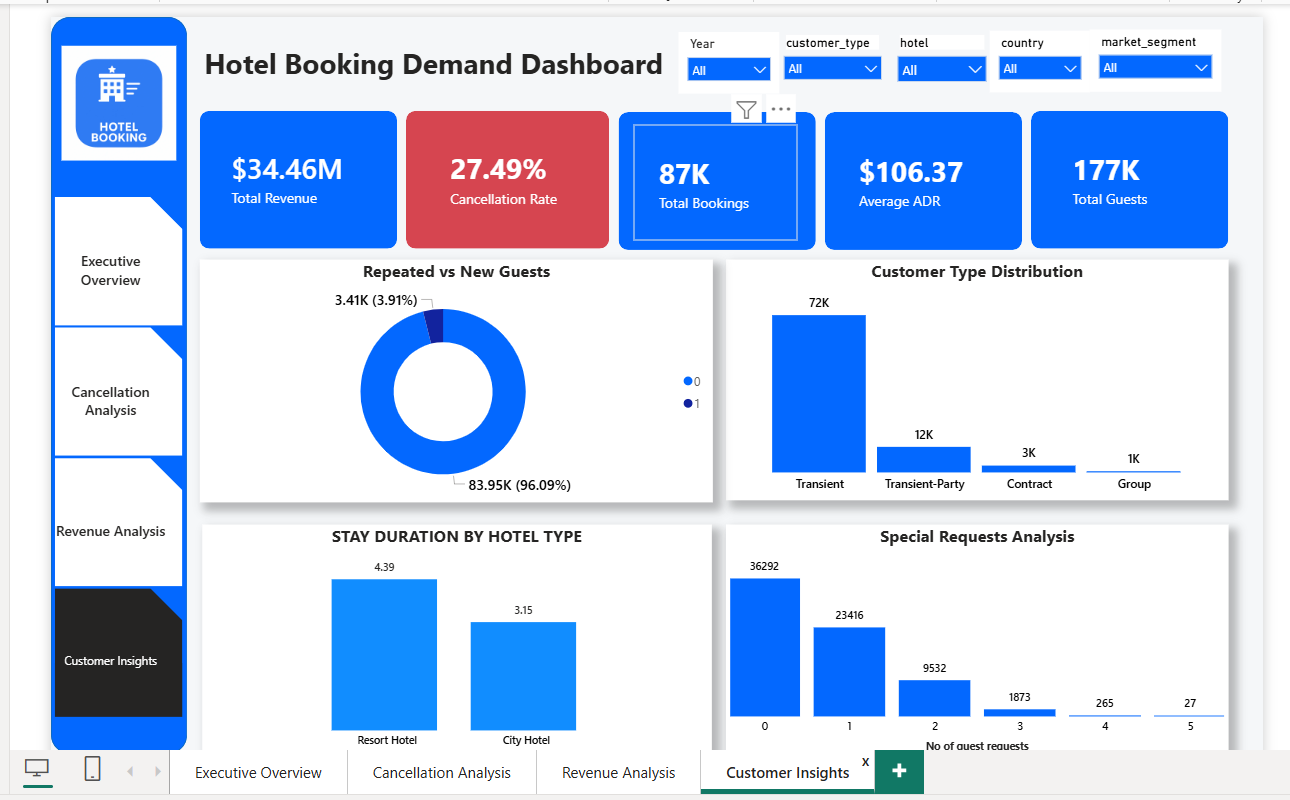

What the dashboard file says about the page in this screenshot:
{"tool":"powerbi","page":{"name":"Customer Insights","canvas":[1385,853],"ordinal":3},"visuals":[{"type":"columnChart","title":"Customer Type Distribution","fields":{"Category":["hotel_booking_no_duplicates.customer_type"],"Y":["Count(hotel_booking_no_duplicates.booking_id)"]},"box":[771.1,277.8,574.4,275.6],"z":0},{"type":"shape","box":[0,0,155.6,842.2],"z":1000},{"type":"shape","box":[170,106.7,225.6,157.8],"z":2000},{"type":"clusteredColumnChart","title":"STAY DURATION BY HOTEL TYPE","fields":{"Category":["hotel_booking_no_duplicates.hotel"],"Y":["Avg(hotel_booking_no_duplicates.total_nights)"]},"box":[172.2,580,582.2,265.6],"z":3000},{"type":"donutChart","title":"Repeated vs New Guests","fields":{"Y":["CountNonNull(hotel_booking_no_duplicates.booking_id)"],"Category":["hotel_booking_no_duplicates.is_repeated_guest"]},"box":[170,277.8,586.7,277.8],"z":4000},{"type":"clusteredColumnChart","title":"Special Requests Analysis","fields":{"Y":["CountNonNull(hotel_booking_no_duplicates.booking_id)"],"Category":["hotel_booking_no_duplicates.total_of_special_requests"]},"box":[771.1,580,574.4,265.6],"z":5000},{"type":"textbox","box":[170,25.6,541.1,72.2],"z":6000},{"type":"shape","box":[405.8,106.7,232.2,157.8],"z":7000},{"type":"shape","box":[648.3,108.9,225.6,157.8],"z":8000},{"type":"shape","box":[884.2,108.9,225.6,157.8],"z":9000},{"type":"shape","box":[1120,106.7,225.6,157.8],"z":10000},{"type":"cardVisual","fields":{"Data":["hotel_booking_no_duplicates.Average ADR"]},"box":[894.4,118.9,196.7,137.8],"z":11000},{"type":"image","box":[0,32.2,155.6,131.1],"z":12000},{"type":"cardVisual","fields":{"Data":["hotel_booking_no_duplicates.Total Bookings"]},"box":[665.6,122.2,186.7,133.3],"z":13000},{"type":"cardVisual","fields":{"Data":["hotel_booking_no_duplicates.Cancellation Rate"]},"box":[426.7,115.6,193.3,137.8],"z":14000},{"type":"cardVisual","fields":{"Data":["hotel_booking_no_duplicates.Total Guests"]},"box":[1138.9,125.6,187.8,118.9],"z":15000},{"type":"slicer","fields":{"Values":["hotel_booking_no_duplicates.hotel"]},"box":[957.8,15.6,122.2,70],"z":16000},{"type":"slicer","fields":{"Values":["hotel_booking_no_duplicates.customer_type"]},"box":[827.8,15.6,132.2,70],"z":17000},{"type":"slicer","fields":{"Values":["hotel_booking_no_duplicates.arrival_date.Variation.Date Hierarchy.Year"]},"box":[717.8,16.7,115.6,70],"z":18000},{"type":"slicer","fields":{"Values":["hotel_booking_no_duplicates.country"]},"box":[1072.2,15.6,114.4,70],"z":19000},{"type":"slicer","fields":{"Values":["hotel_booking_no_duplicates.market_segment"]},"box":[1186.7,14.4,150,71.1],"z":20000},{"type":"cardVisual","fields":{"Data":["hotel_booking_no_duplicates.Total Revenue"]},"box":[176.7,113.3,210,141.1],"z":21000},{"type":"pageNavigator","box":[4.4,205.6,146.7,597.8],"z":22000}]}

Visuals, with their boxes on the page's 1385x853 design canvas (x1, y1, x2, y2). These are canvas units, not pixel positions in the 1290x800 screenshot, which may show the page scaled, cropped or inside an application window:
"Customer Type Distribution" columnChart: pyautogui.locateOnScreen(771, 278, 1346, 553)
shape: pyautogui.locateOnScreen(0, 0, 156, 842)
shape: pyautogui.locateOnScreen(170, 107, 396, 264)
"STAY DURATION BY HOTEL TYPE" clusteredColumnChart: pyautogui.locateOnScreen(172, 580, 754, 846)
"Repeated vs New Guests" donutChart: pyautogui.locateOnScreen(170, 278, 757, 556)
"Special Requests Analysis" clusteredColumnChart: pyautogui.locateOnScreen(771, 580, 1346, 846)
textbox: pyautogui.locateOnScreen(170, 26, 711, 98)
shape: pyautogui.locateOnScreen(406, 107, 638, 264)
shape: pyautogui.locateOnScreen(648, 109, 874, 267)
shape: pyautogui.locateOnScreen(884, 109, 1110, 267)
shape: pyautogui.locateOnScreen(1120, 107, 1346, 264)
cardVisual - hotel_booking_no_duplicates.Average ADR: pyautogui.locateOnScreen(894, 119, 1091, 257)
image: pyautogui.locateOnScreen(0, 32, 156, 163)
cardVisual - hotel_booking_no_duplicates.Total Bookings: pyautogui.locateOnScreen(666, 122, 852, 256)
cardVisual - hotel_booking_no_duplicates.Cancellation Rate: pyautogui.locateOnScreen(427, 116, 620, 253)
cardVisual - hotel_booking_no_duplicates.Total Guests: pyautogui.locateOnScreen(1139, 126, 1327, 244)
slicer - hotel_booking_no_duplicates.hotel: pyautogui.locateOnScreen(958, 16, 1080, 86)
slicer - hotel_booking_no_duplicates.customer_type: pyautogui.locateOnScreen(828, 16, 960, 86)
slicer - hotel_booking_no_duplicates.arrival_date.Variation.Date Hierarchy.Year: pyautogui.locateOnScreen(718, 17, 833, 87)
slicer - hotel_booking_no_duplicates.country: pyautogui.locateOnScreen(1072, 16, 1187, 86)
slicer - hotel_booking_no_duplicates.market_segment: pyautogui.locateOnScreen(1187, 14, 1337, 86)
cardVisual - hotel_booking_no_duplicates.Total Revenue: pyautogui.locateOnScreen(177, 113, 387, 254)
pageNavigator: pyautogui.locateOnScreen(4, 206, 151, 803)
